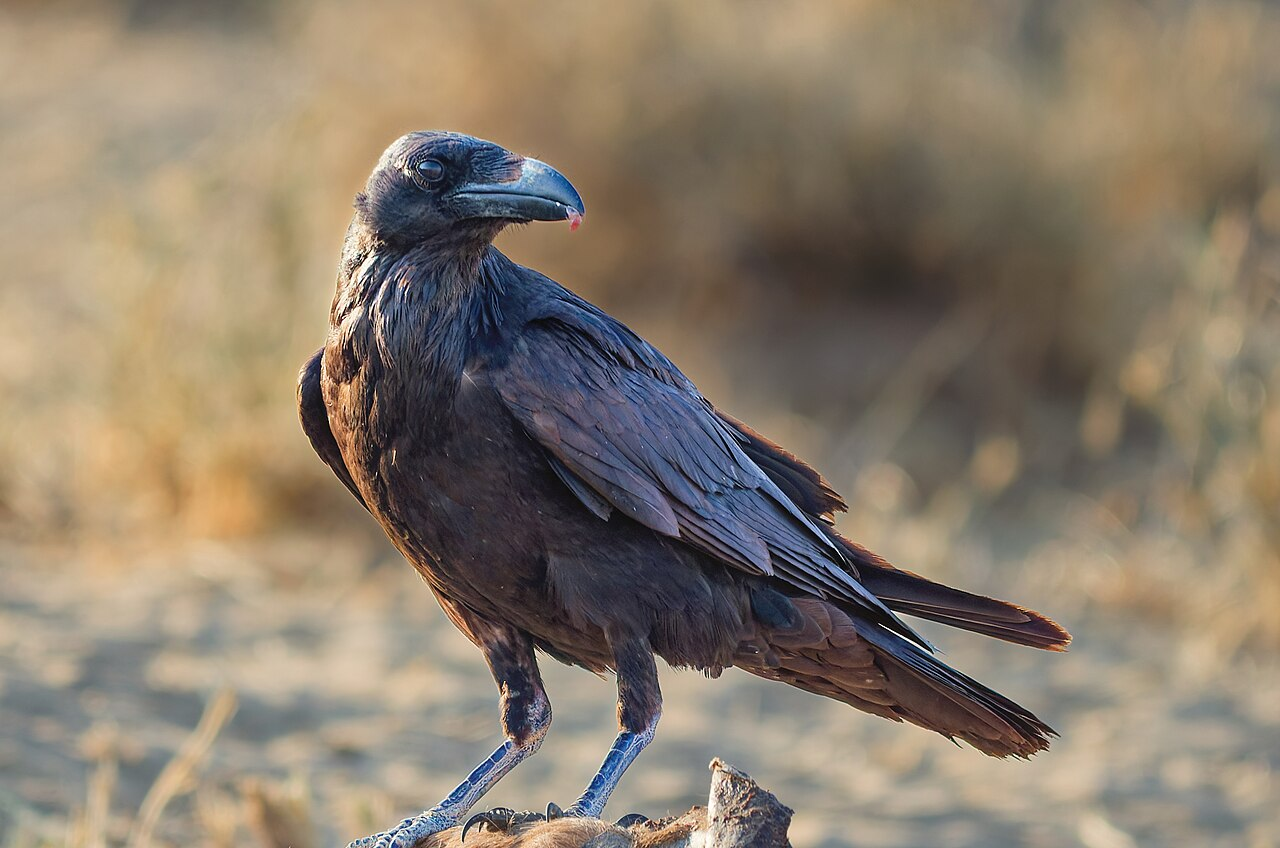ворон: (249, 86, 1102, 848)
